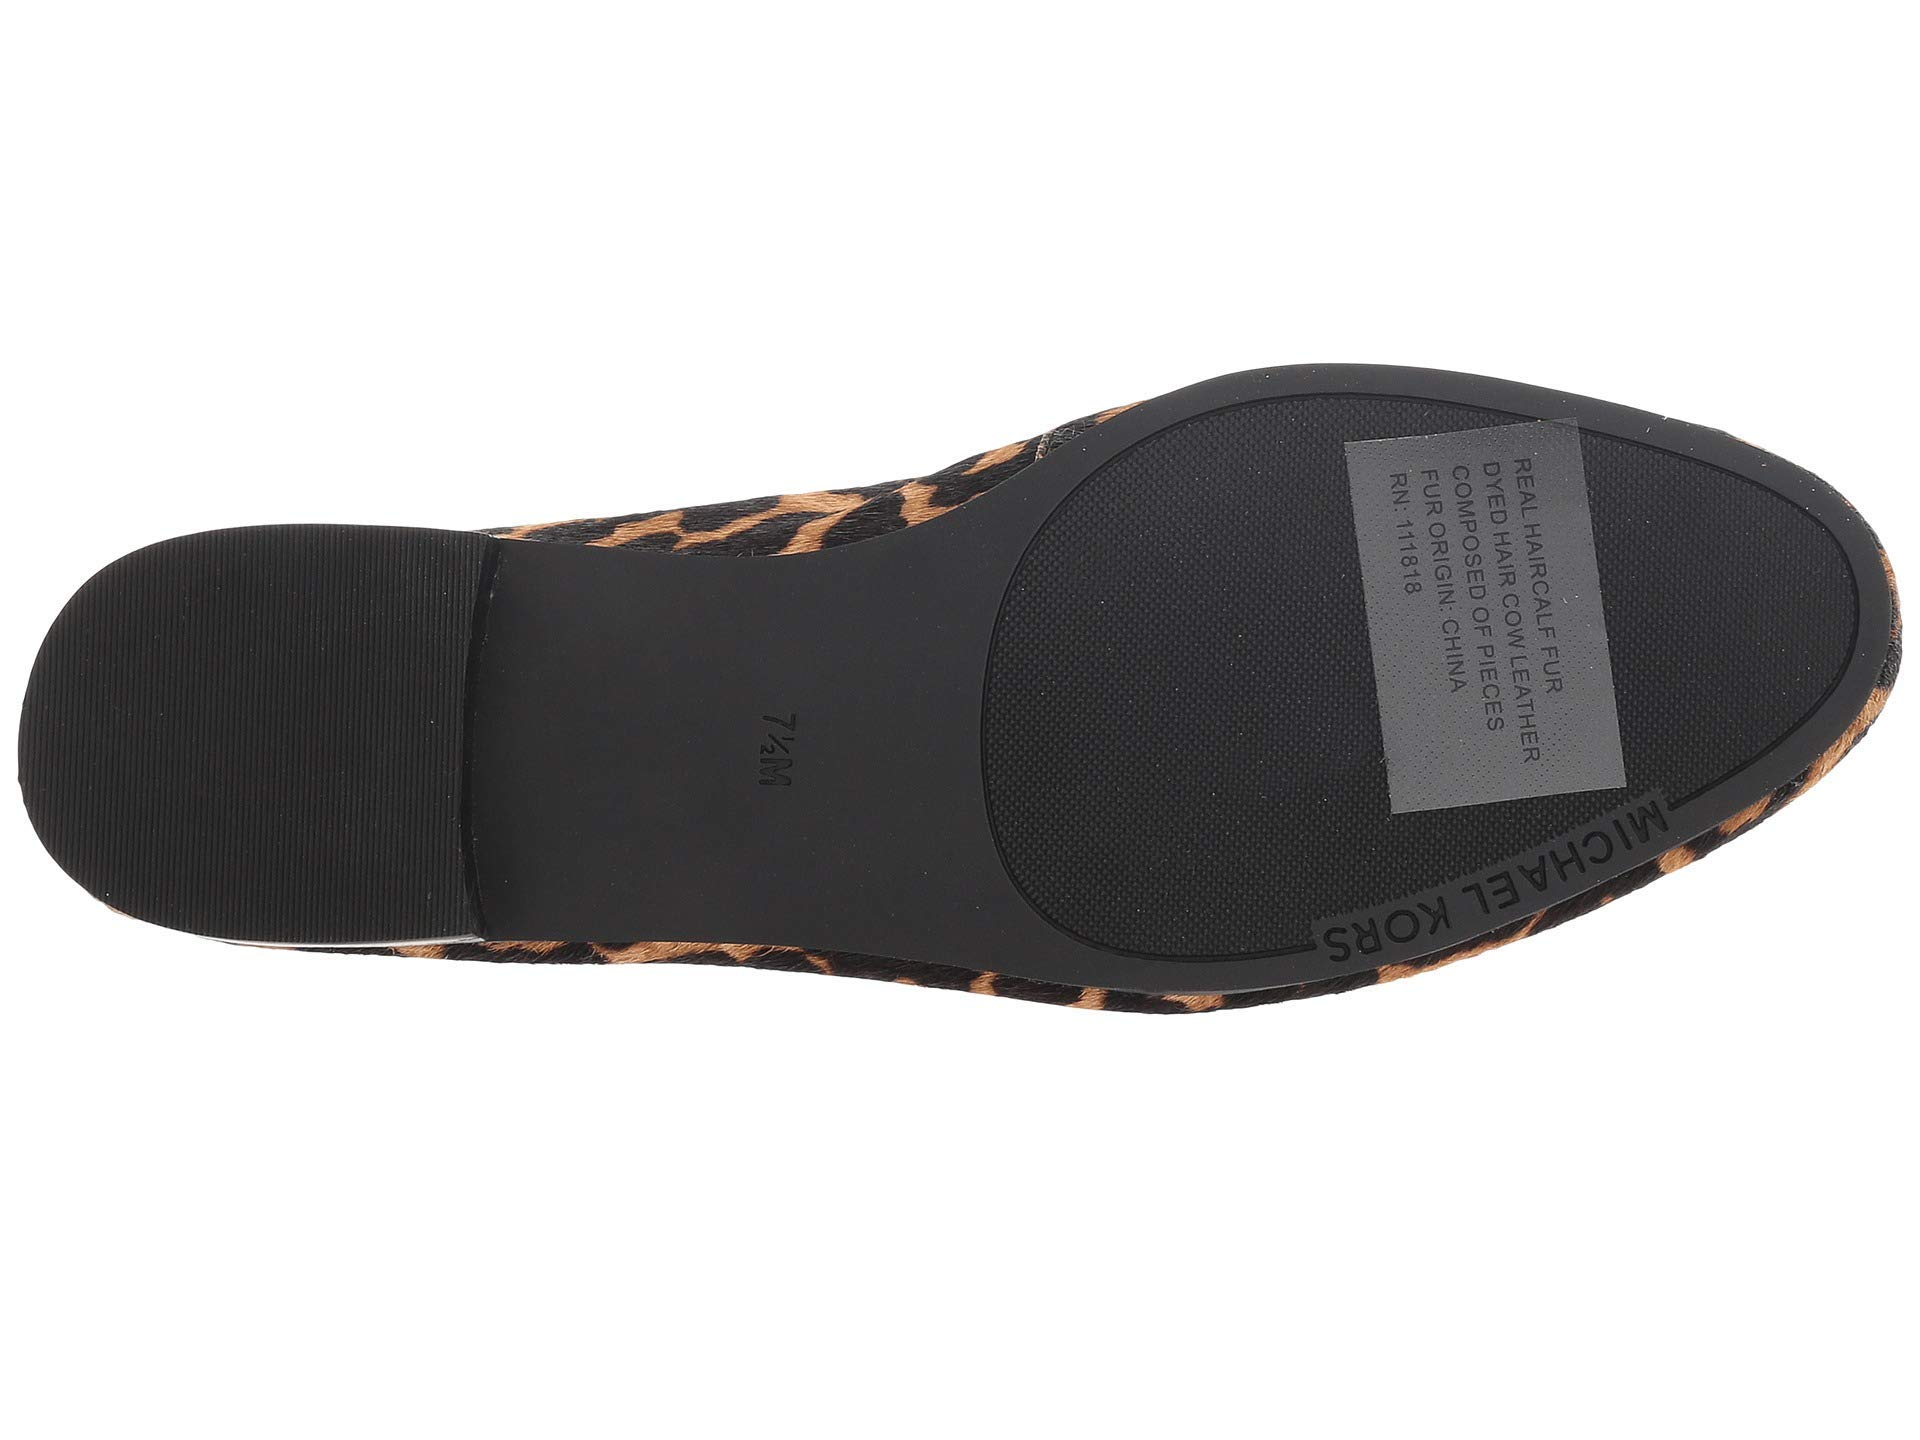exclude: (1327, 398, 1645, 821)
line: (132, 573, 417, 903)
quad: (1061, 507, 1273, 902)
text: (726, 687, 838, 833)
